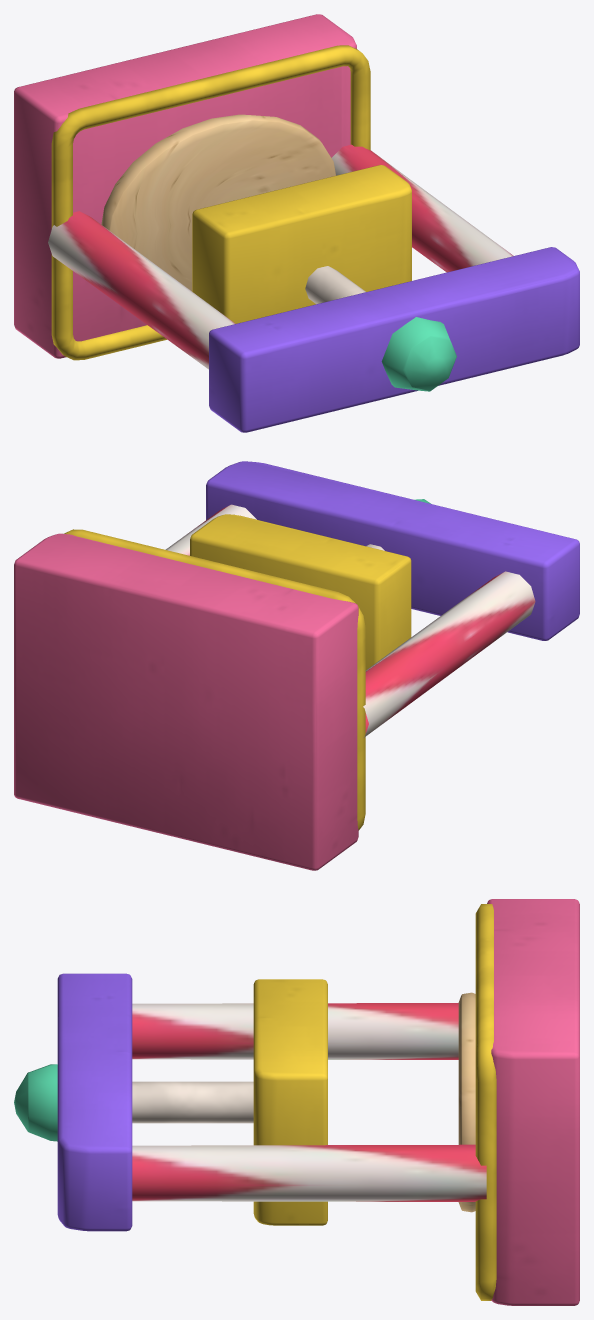
Rendered from CandyPress.glb.
3 views of the same model, one above another, from view 1: azimuth 30°, elevation 25°; view 2: azimuth 150°, elevation 25°; view 3: azimuth 270°, elevation 25° (orthographic). The views are drawn at different scales.
Parts seen in each view (by area): view 1: CandyPress__Base, CandyPress__Beam, CandyPress__Stamp, CandyPress__Tray, CandyPress__Pillars, CandyPress__Trim, CandyPress__Knob, CandyPress__Rod; view 2: CandyPress__Base, CandyPress__Beam, CandyPress__Stamp, CandyPress__Pillars, CandyPress__Trim; view 3: CandyPress__Base, CandyPress__Pillars, CandyPress__Beam, CandyPress__Stamp, CandyPress__Trim, CandyPress__Rod, CandyPress__Tray, CandyPress__Knob.
Boxes of the visible parts, box(x1,y1,x2,y2) form: CandyPress__Base: box(14, 14, 356, 358); CandyPress__Beam: box(209, 247, 579, 432); CandyPress__Stamp: box(192, 165, 411, 323); CandyPress__Tray: box(101, 114, 335, 291); CandyPress__Pillars: box(48, 144, 513, 369); CandyPress__Trim: box(51, 45, 370, 360); CandyPress__Knob: box(381, 317, 456, 391); CandyPress__Rod: box(305, 266, 365, 304); CandyPress__Base: box(14, 533, 358, 870); CandyPress__Beam: box(206, 461, 579, 640); CandyPress__Stamp: box(190, 514, 411, 669); CandyPress__Pillars: box(165, 504, 535, 737); CandyPress__Trim: box(64, 529, 365, 830); CandyPress__Base: box(487, 899, 579, 1305); CandyPress__Pillars: box(132, 1003, 486, 1201); CandyPress__Beam: box(57, 973, 132, 1231); CandyPress__Stamp: box(253, 979, 327, 1225); CandyPress__Trim: box(475, 904, 496, 1300); CandyPress__Rod: box(132, 1081, 253, 1123); CandyPress__Tray: box(458, 992, 475, 1212); CandyPress__Knob: box(14, 1064, 57, 1141).
Bounding box in the file's own units: 0.09 × 0.0612 × 0.1214.
Materials: 9 (9 with a texture image).
